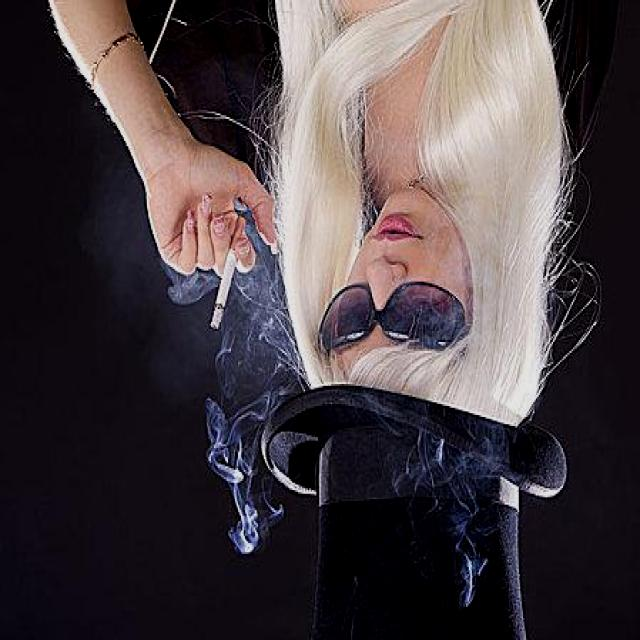smoke: (208, 215, 248, 332)
